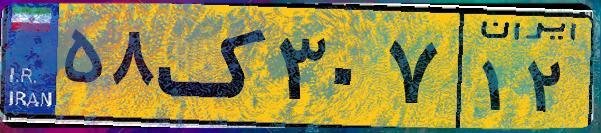0: (330, 28, 385, 110)
1: (475, 38, 525, 113)
2: (525, 38, 570, 115)
3: (270, 28, 330, 110)
5: (57, 26, 110, 100)
7: (385, 28, 445, 110)
8: (110, 28, 158, 98)
ک: (158, 12, 270, 120)
